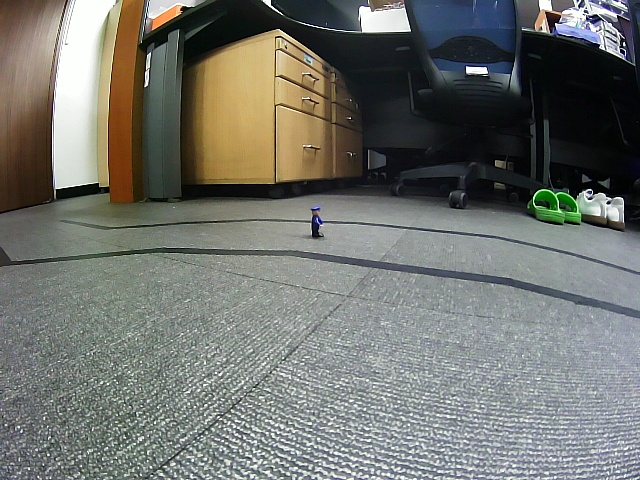person: (310, 207, 324, 238)
